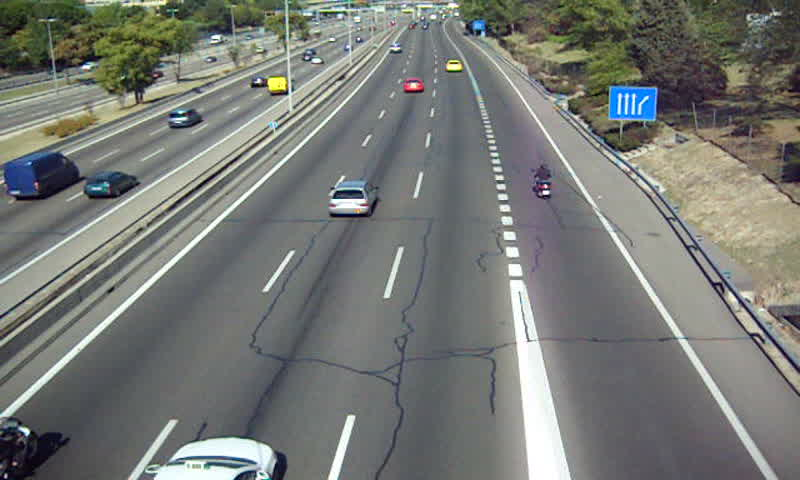car: (327, 182, 378, 216), (403, 77, 422, 96), (446, 60, 463, 71)
motorcycle: (533, 162, 555, 199)
